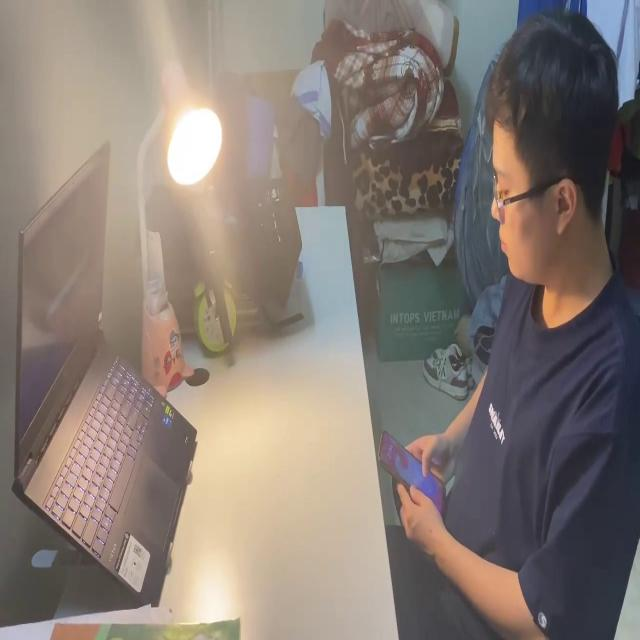book: (0, 597, 242, 640)
laptop: (11, 134, 199, 614)
phone: (378, 415, 447, 520)
student: (394, 3, 640, 640)
